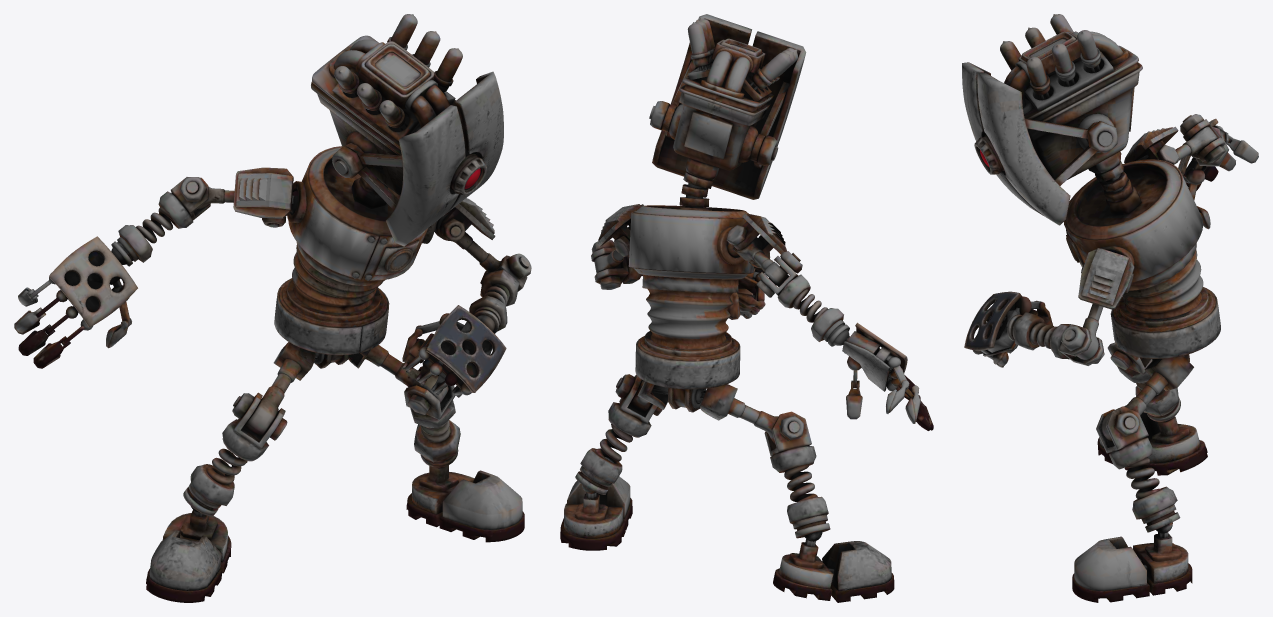
The picture shows the model from 3 angles, left to right: view 1: azimuth 30°, elevation 25°; view 2: azimuth 150°, elevation 25°; view 3: azimuth 270°, elevation 25°; orthographic projection. The views are drawn at different scales.
Parts seen in each view (by area): view 1: Mesh_2, Mesh_3, Mesh_0, Mesh_1, Mesh_4, Mesh_5; view 2: Mesh_2, Mesh_0, Mesh_3, Mesh_1, Mesh_5, Mesh_4; view 3: Mesh_2, Mesh_3, Mesh_1, Mesh_0, Mesh_4, Mesh_5.
Part boxes in pixels (left/top/right/bottom): Mesh_2: left=274, top=31, right=503, bottom=368; Mesh_3: left=291, top=14, right=494, bottom=397; Mesh_0: left=146, top=52, right=487, bottom=602; Mesh_1: left=234, top=71, right=524, bottom=542; Mesh_4: left=18, top=177, right=531, bottom=392; Mesh_5: left=14, top=177, right=384, bottom=355; Mesh_2: left=628, top=14, right=797, bottom=412; Mesh_0: left=575, top=44, right=894, bottom=602; Mesh_3: left=669, top=17, right=806, bottom=319; Mesh_1: left=560, top=48, right=787, bottom=550; Mesh_5: left=681, top=62, right=930, bottom=430; Mesh_4: left=591, top=106, right=933, bottom=430; Mesh_2: left=977, top=14, right=1220, bottom=361; Mesh_3: left=962, top=30, right=1179, bottom=367; Mesh_1: left=1029, top=75, right=1192, bottom=602; Mesh_0: left=1024, top=38, right=1207, bottom=574; Mesh_4: left=964, top=114, right=1258, bottom=365; Mesh_5: left=1039, top=65, right=1235, bottom=229.
Bounding box in the file's own units: 11.66 × 13.7 × 7.11.
Materials: 1 (1 with a texture image).
